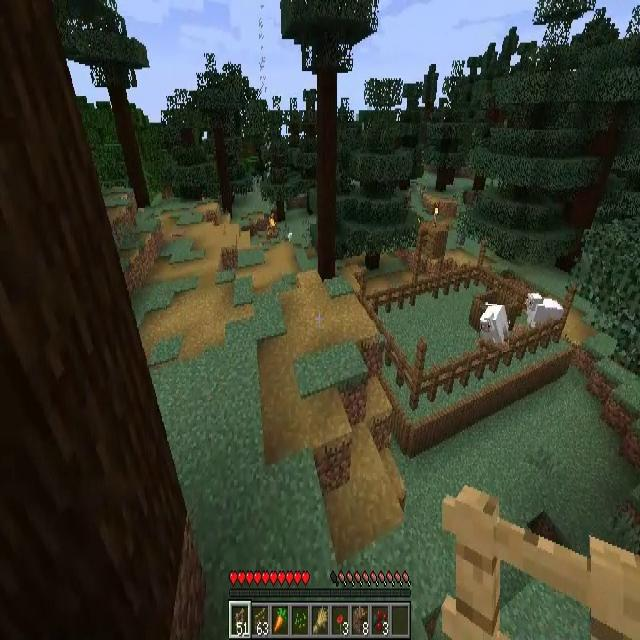sheep: (526, 288, 563, 332), (480, 305, 509, 351)
